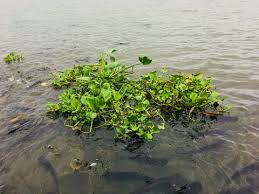water_hyacinth: (49, 49, 234, 142)
